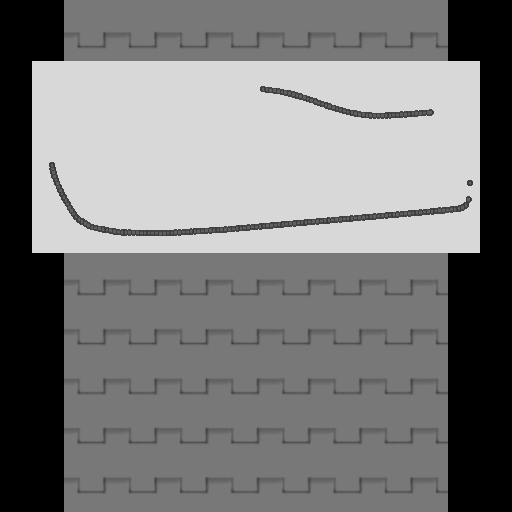Defect: (44, 82, 258, 169)
